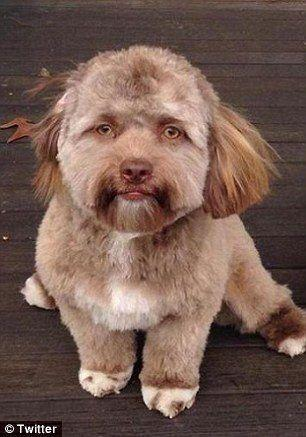adult_dog: (18, 43, 306, 419)
